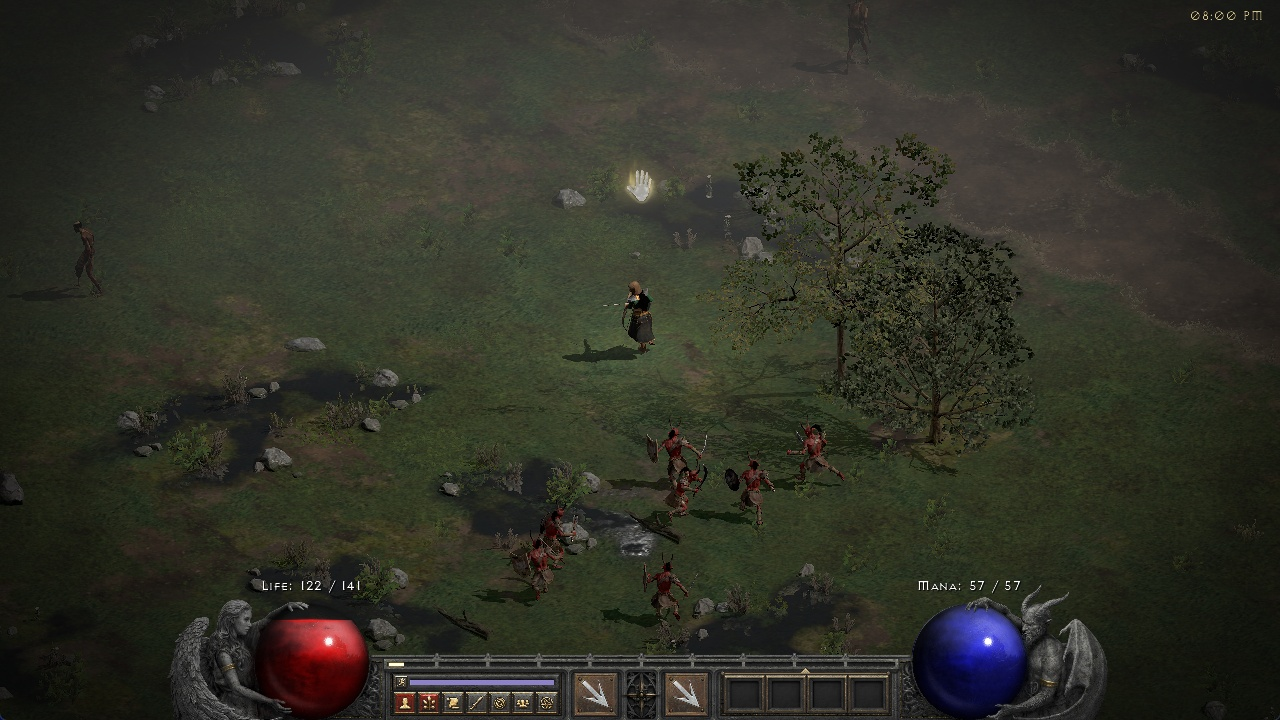fallen: (721, 452, 778, 523), (782, 425, 845, 486), (633, 552, 692, 617), (653, 421, 715, 465), (661, 466, 711, 516), (518, 539, 558, 595), (542, 505, 580, 542)
